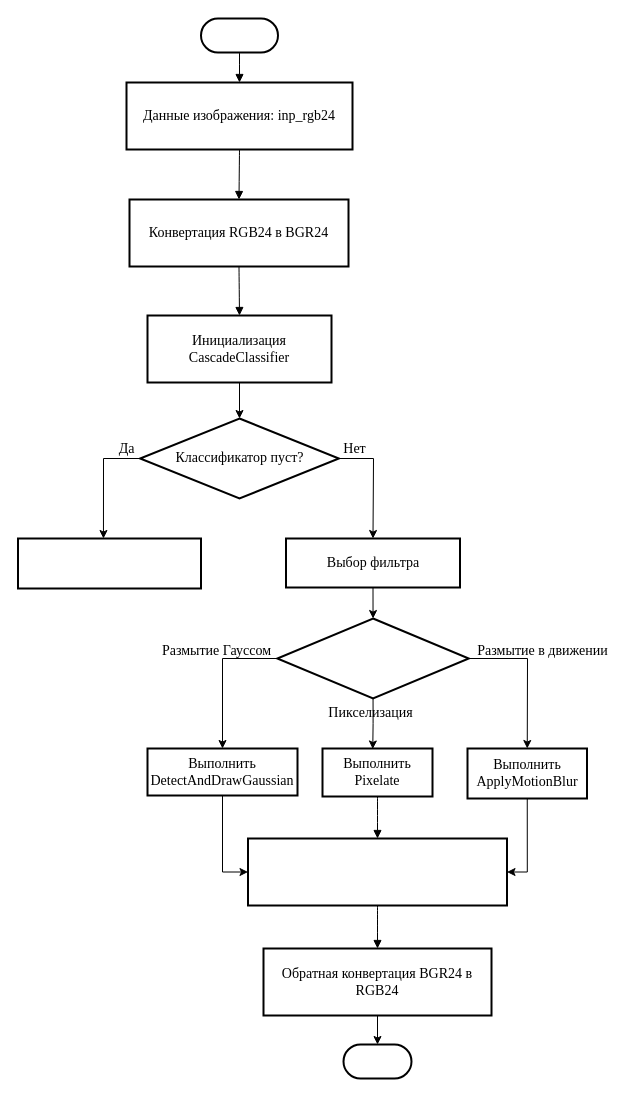
Some shapes in this 635 by 1096 pixel diagram are drawn without their labels. Each missing label, with the box of its shape:
Выбранный фильтр comboBox == "?": (276, 617, 469, 699)
Заполнить out_rgb24 нулями: (16, 537, 202, 589)
Конец: (342, 1043, 412, 1079)
Начало: (200, 17, 278, 53)
Обработка лиц выбранным фильтром: (246, 837, 508, 906)
